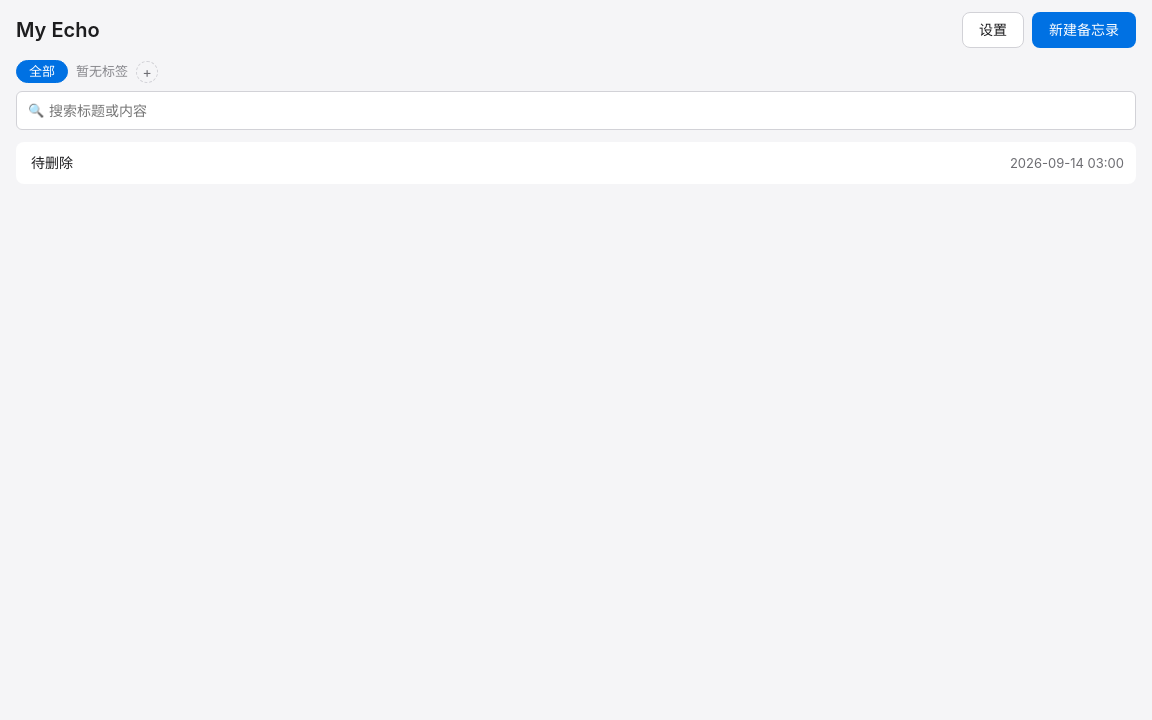
Test: App 关键流程 › 确认删除时 E_NOT_FOUND 先展示提示再回列表
The width and height of the screenshot is (1152, 720).
Click the button "待删除 2026-09-14 03:00" at (52, 163), box [16,142,1136,184]
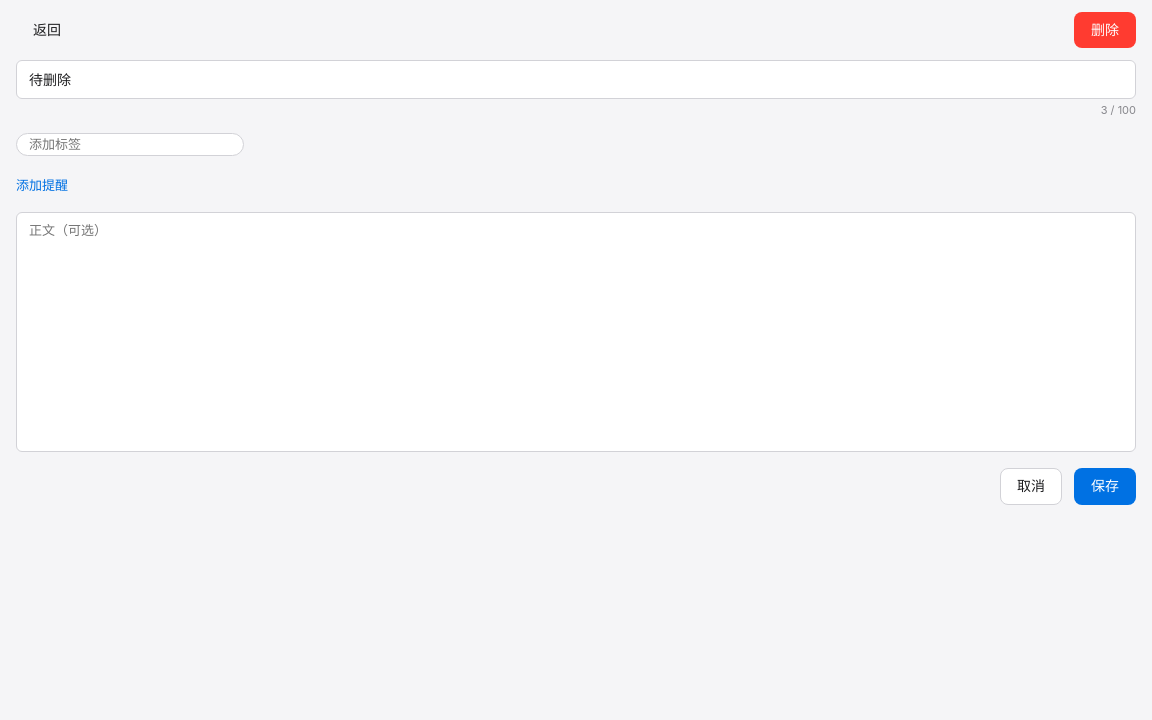
Click the button "删除" at (1105, 30), box [1074,12,1136,48]
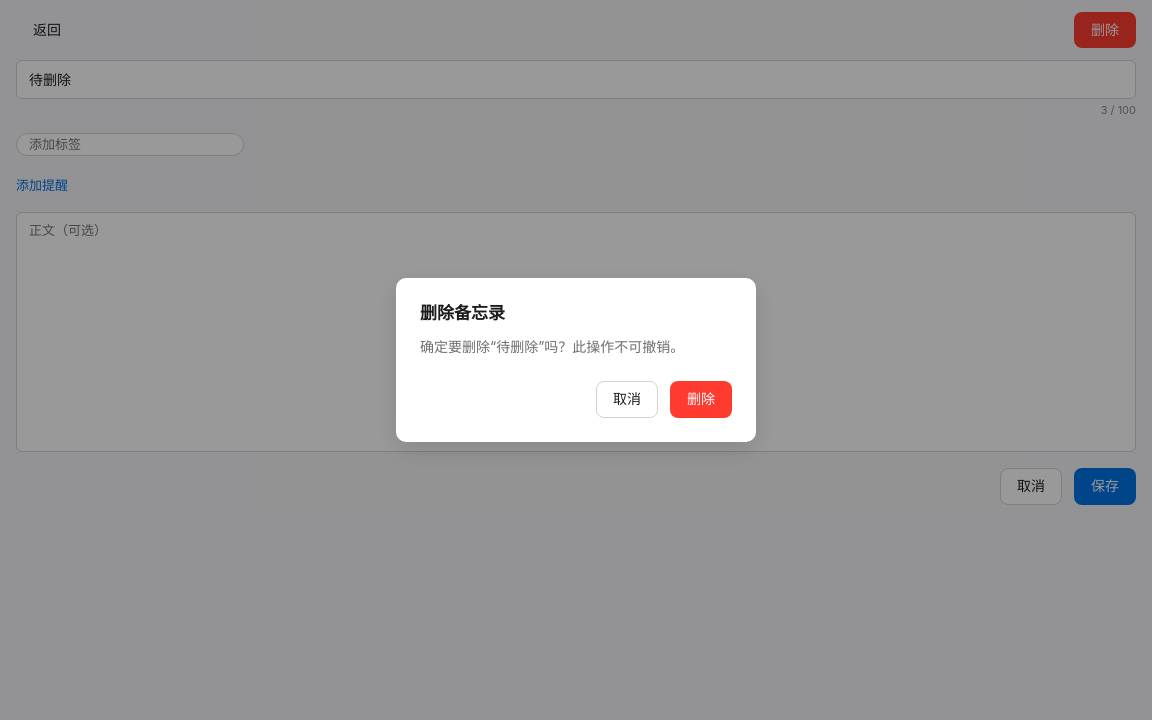
Check: the button "删除" is shown
Click the button "删除" at (701, 400), box [670,382,732,418]
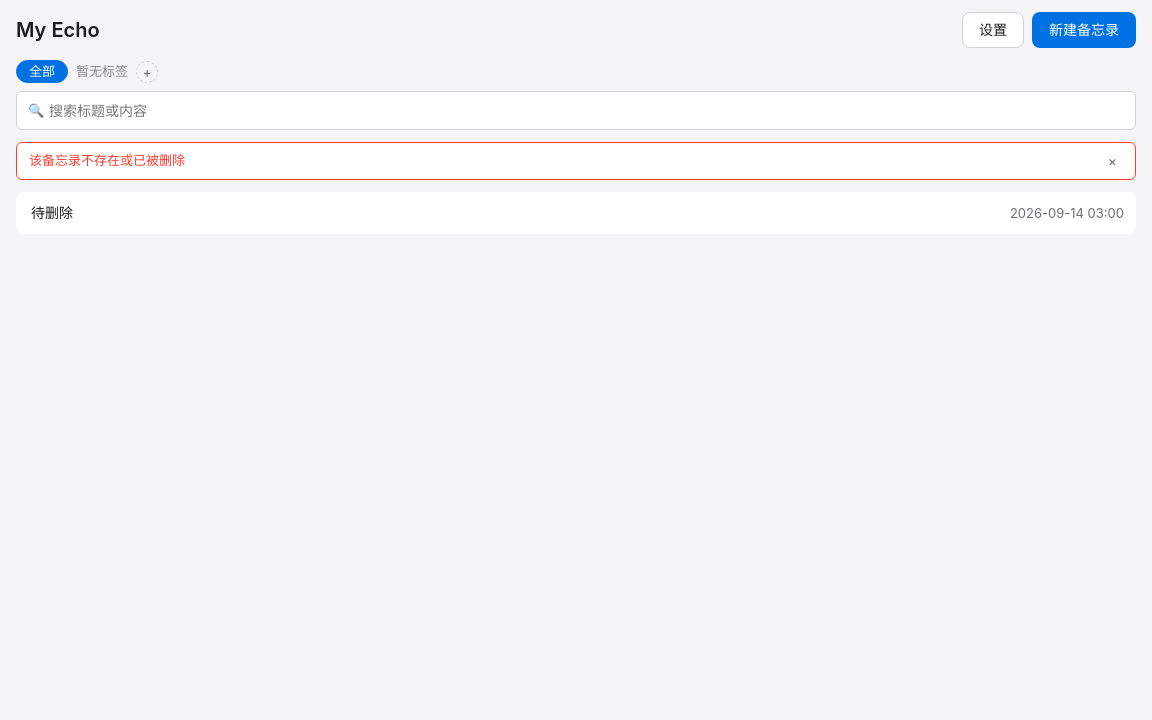
Check: the text "该备忘录不存在或已被删除" is shown, box [29,151,185,171]
Check: the list with class "memo-list" is shown, box [16,192,1136,234]
